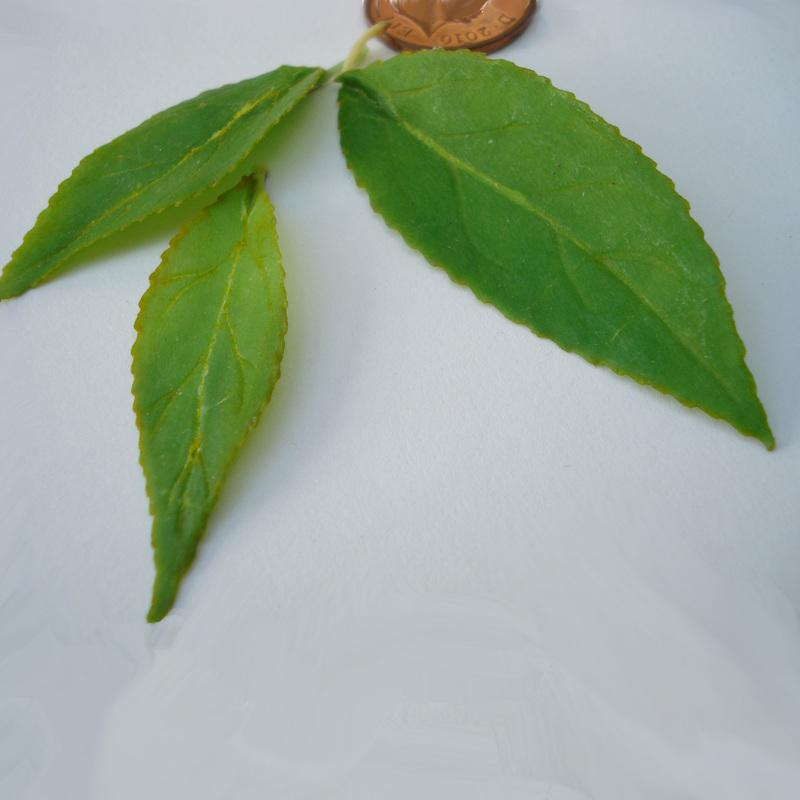Peach leaf: (327, 39, 800, 456), (115, 146, 292, 642), (1, 39, 332, 299)
